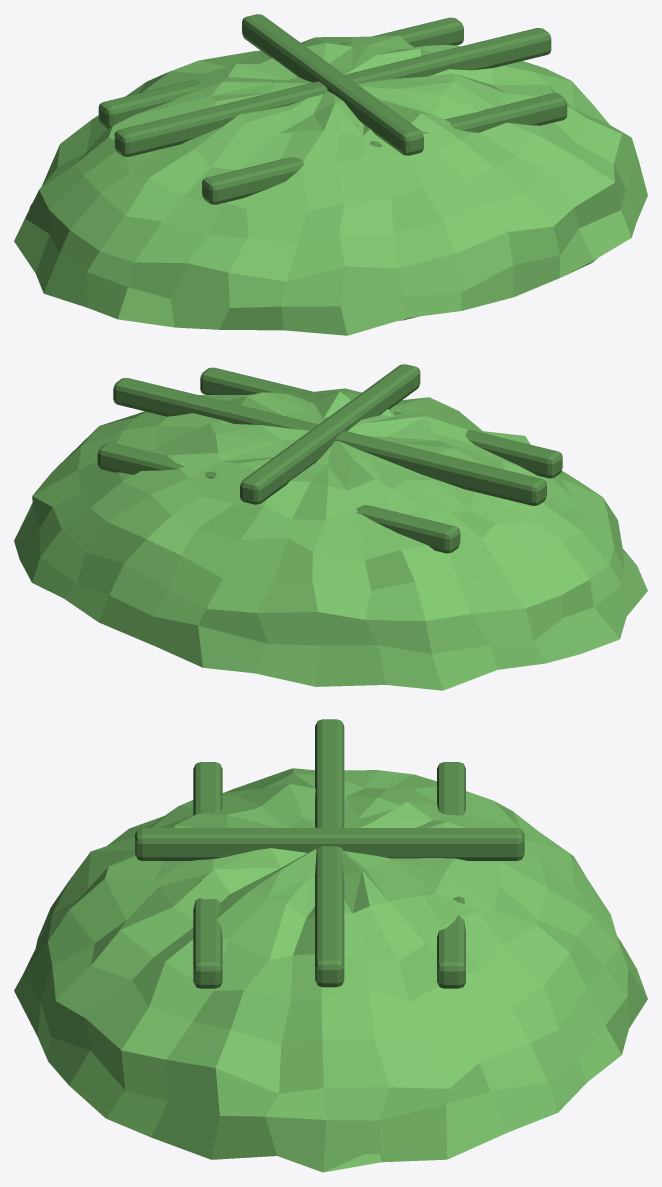
Rendered from chitin_plate.glb.
3 views of the same model, one above another, from view 1: azimuth 30°, elevation 25°; view 2: azimuth 150°, elevation 25°; view 3: azimuth 270°, elevation 25° (orthographic). The views are drawn at different scales.
Visible parts, largest first — view 1: model; view 2: model; view 3: model.
Part boxes in pixels (x1,y1,x2,y2): model: [14, 14, 647, 335]; model: [14, 364, 647, 690]; model: [14, 719, 647, 1172].
Bounding box in the file's own units: 0.3234 × 0.08 × 0.2604.
